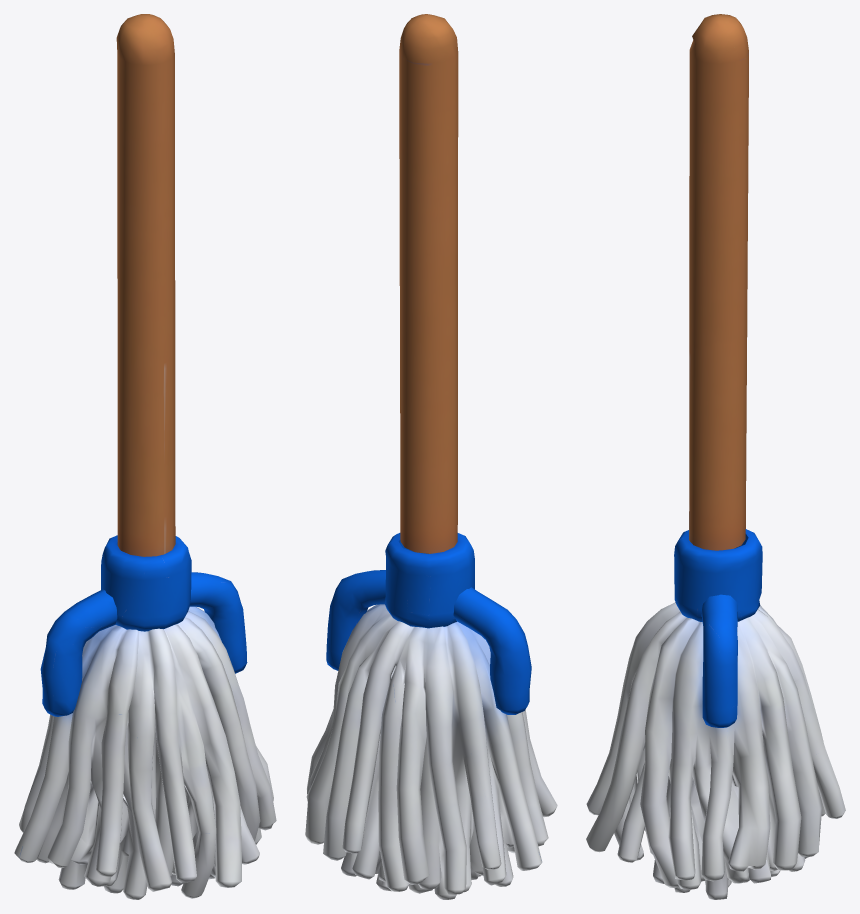
The model's file is hand_mop.glb.
3 renders of one model, left to right at view 1: azimuth 30°, elevation 25°; view 2: azimuth 150°, elevation 25°; view 3: azimuth 270°, elevation 25°, orthographic.
Visible parts, largest first — view 1: geometry_0; view 2: geometry_0; view 3: geometry_0.
Boxes of the visible parts, bbox=[...] form: geometry_0: bbox=[14, 14, 276, 899]; geometry_0: bbox=[305, 14, 557, 899]; geometry_0: bbox=[586, 14, 845, 899].
Bounding box in the file's own units: 0.2827 × 0.9512 × 0.2622.
1 material, 1 textured.
